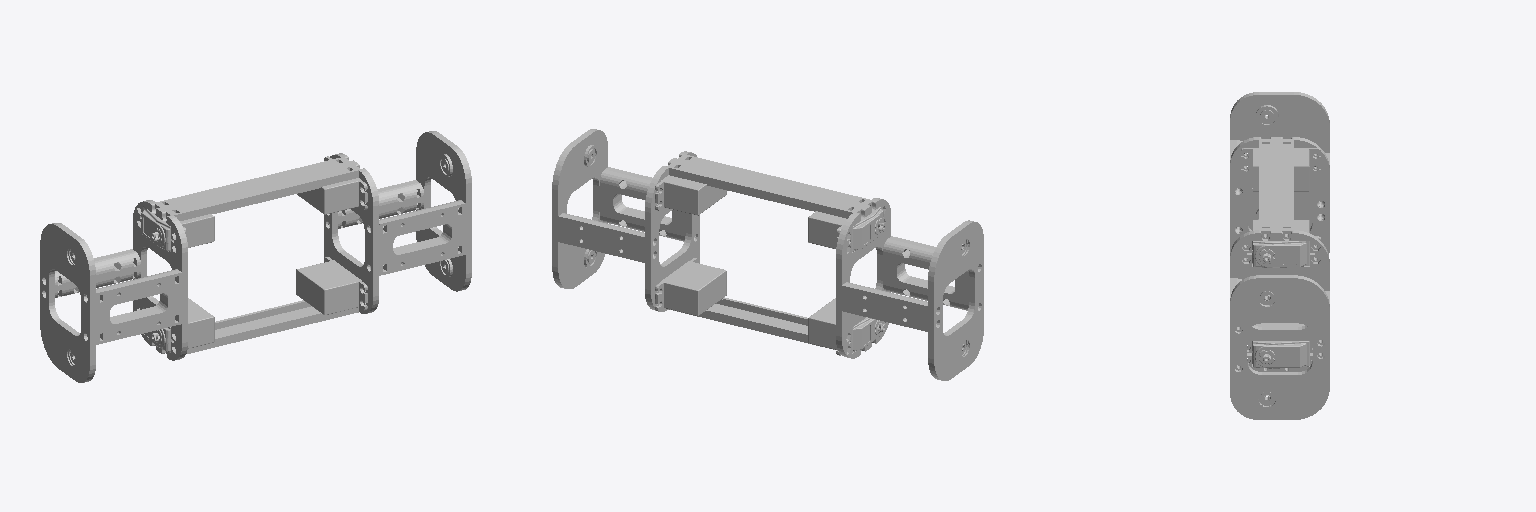
File: frame.obj
3 views of the same model, side by side, from view 1: azimuth 30°, elevation 25°; view 2: azimuth 150°, elevation 25°; view 3: azimuth 270°, elevation 25° (orthographic).
Parts seen in each view (by area): view 1: 6, (1):4, (1), (1):1, 5, (1):2, (1):3, (1):5, (1):7, (1):6, 6 (1), 2 (2) (+5 smaller); view 2: 6, (1):4, 5, (1):2, (1):3, (1):1, (1), (1):6, (1):7, (1):5, 6 (1), 2 (2) (+6 smaller); view 3: 5, 6, (1):3, (1):2, (1):4, 2 (4), Body4, 1 (2), 1 (4).
Part boxes in pixels (bbox=[...]): 6: bbox=[40, 223, 95, 382]; (1):4: bbox=[157, 157, 358, 220]; (1): bbox=[379, 200, 465, 275]; (1):1: bbox=[96, 269, 181, 344]; 5: bbox=[416, 131, 471, 291]; (1):2: bbox=[133, 200, 187, 360]; (1):3: bbox=[324, 153, 378, 313]; (1):5: bbox=[187, 300, 358, 353]; (1):7: bbox=[55, 249, 140, 297]; (1):6: bbox=[338, 180, 423, 228]; 6 (1): bbox=[304, 261, 358, 313]; 2 (2): bbox=[296, 268, 331, 314]; 6: bbox=[928, 220, 983, 380]; (1):4: bbox=[669, 155, 869, 218]; 5: bbox=[552, 129, 607, 288]; (1):2: bbox=[836, 198, 890, 358]; (1):3: bbox=[645, 151, 699, 311]; (1):1: bbox=[883, 236, 968, 310]; (1): bbox=[600, 167, 685, 241]; (1):6: bbox=[558, 213, 644, 262]; (1):7: bbox=[842, 282, 927, 331]; (1):5: bbox=[669, 297, 833, 349]; 6 (1): bbox=[664, 262, 718, 313]; 2 (2): bbox=[691, 268, 726, 315]; 5: bbox=[1230, 275, 1329, 419]; 6: bbox=[1230, 92, 1329, 230]; (1):3: bbox=[1230, 230, 1329, 371]; (1):2: bbox=[1230, 137, 1329, 257]; (1):4: bbox=[1259, 140, 1293, 235]; 2 (4): bbox=[1252, 341, 1309, 368]; Body4: bbox=[1245, 236, 1320, 267]; 1 (2): bbox=[1253, 162, 1309, 191]; 1 (4): bbox=[1241, 148, 1320, 174].
Size of the model in its own units: 0.31 by 0.11 by 0.07.